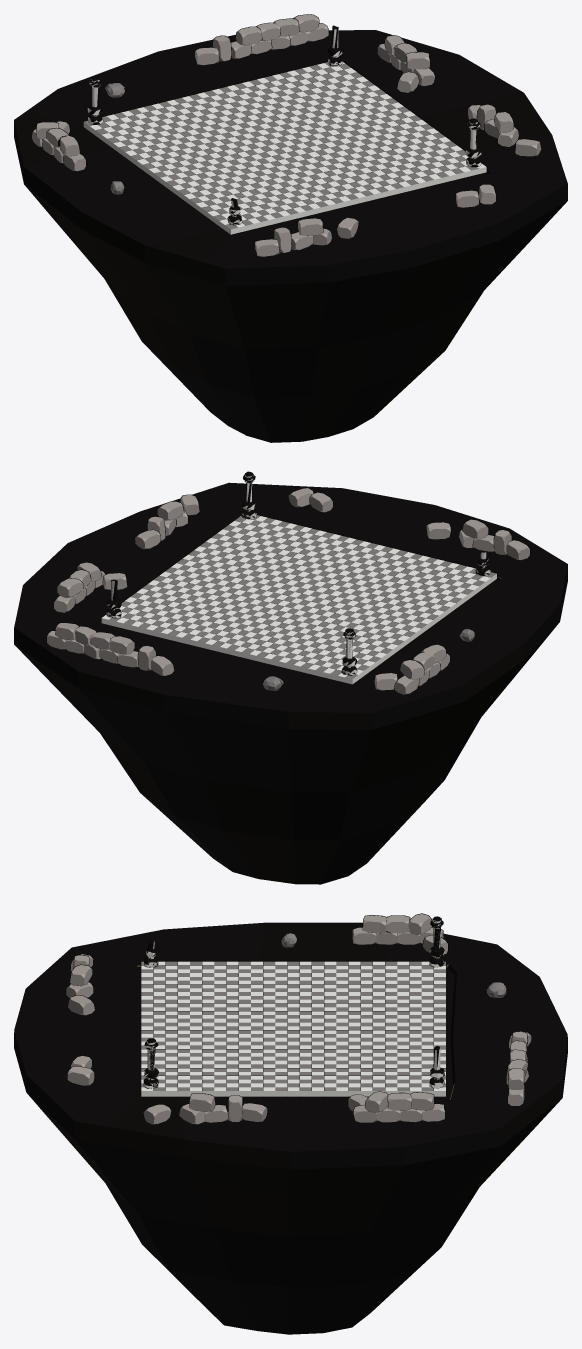
File: Stage.fbx
The picture shows the model from 3 angles, top to bottom: view 1: azimuth 30°, elevation 25°; view 2: azimuth 150°, elevation 25°; view 3: azimuth 270°, elevation 25°; orthographic projection. The views are drawn at different scales.
Parts seen in each view (by area): view 1: Land, Arena, prop.016, prop.002, prop.009, prop.006, prop.013, Cube, prop.010, prop.014, PillarC, PillarB; view 2: Land, Arena, prop.016, prop.002, prop.006, prop.009, prop.013, Cube, prop.014, prop.010; view 3: Land, Arena, prop.009, prop.006, prop.013, prop.002, prop.016, Cube, prop.014, PillarC, PillarB.
Boxes of the visible parts, x1,y1,x2,y2 form: Land: (14, 30, 567, 442); Arena: (83, 62, 486, 234); prop.016: (231, 14, 328, 58); prop.002: (254, 217, 358, 256); prop.009: (377, 35, 435, 92); prop.006: (31, 121, 86, 171); prop.013: (467, 104, 519, 147); Cube: (83, 61, 487, 235); prop.010: (194, 35, 231, 65); prop.014: (455, 184, 496, 207); PillarC: (465, 118, 481, 167); PillarB: (87, 76, 103, 124); Land: (14, 482, 567, 884); Arena: (101, 515, 496, 684); prop.016: (46, 622, 138, 667); prop.002: (426, 519, 530, 560); prop.006: (374, 644, 450, 694); prop.009: (53, 562, 127, 612); prop.013: (134, 501, 188, 549); Cube: (101, 514, 497, 684); prop.014: (288, 487, 333, 512); prop.010: (137, 645, 174, 675); Land: (14, 922, 567, 1334); Arena: (141, 961, 445, 1096); prop.009: (347, 1091, 445, 1122); prop.006: (352, 913, 448, 954); prop.013: (178, 1093, 267, 1124); prop.002: (65, 953, 95, 1015); prop.016: (506, 1040, 529, 1106); Cube: (140, 961, 446, 1096); prop.014: (67, 1055, 94, 1085); PillarC: (143, 1038, 158, 1088); PillarB: (429, 916, 444, 967).
Bounding box in the file's own units: 17849 × 11569 × 18209.
